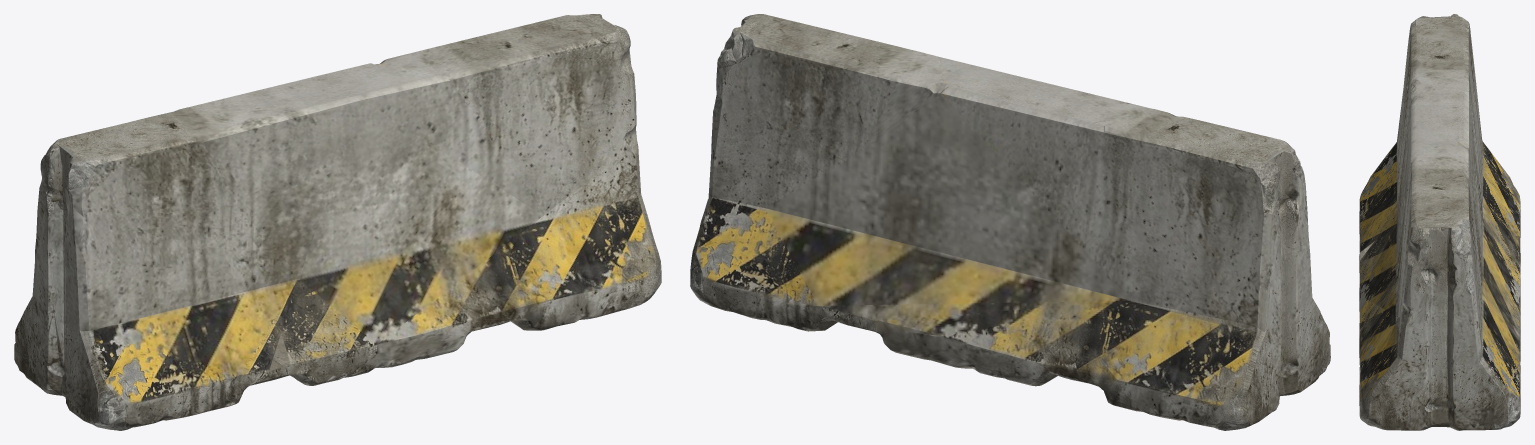
The model's file is barrier.glb.
3 renders of one model, left to right at view 1: azimuth 30°, elevation 25°; view 2: azimuth 150°, elevation 25°; view 3: azimuth 270°, elevation 25°, orthographic. The views are drawn at different scales.
Parts seen in each view (by area): view 1: fit; view 2: fit; view 3: fit.
Boxes of the visible parts, x1,y1,x2,y2 form: fit: (14,14,661,430); fit: (690,14,1330,430); fit: (1359,14,1520,430).
Bounding box in the file's own units: 2 × 0.85 × 0.62.
Materials: 1 (1 with a texture image).
